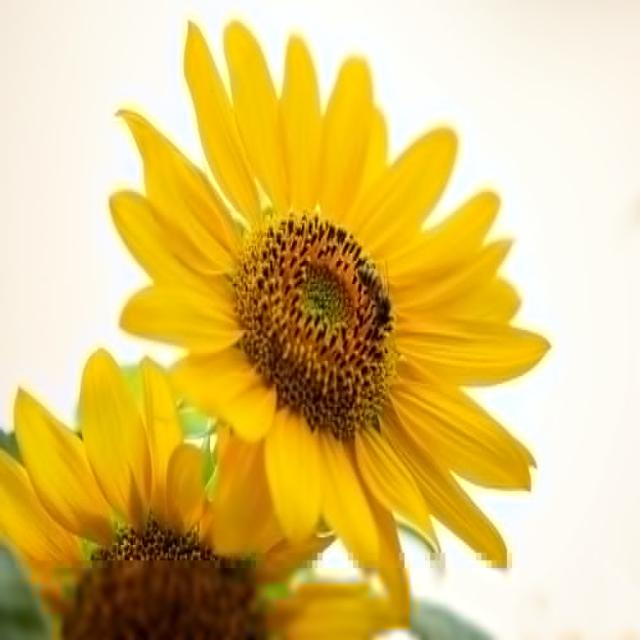sunflower: (101, 13, 560, 601), (2, 337, 428, 640)
